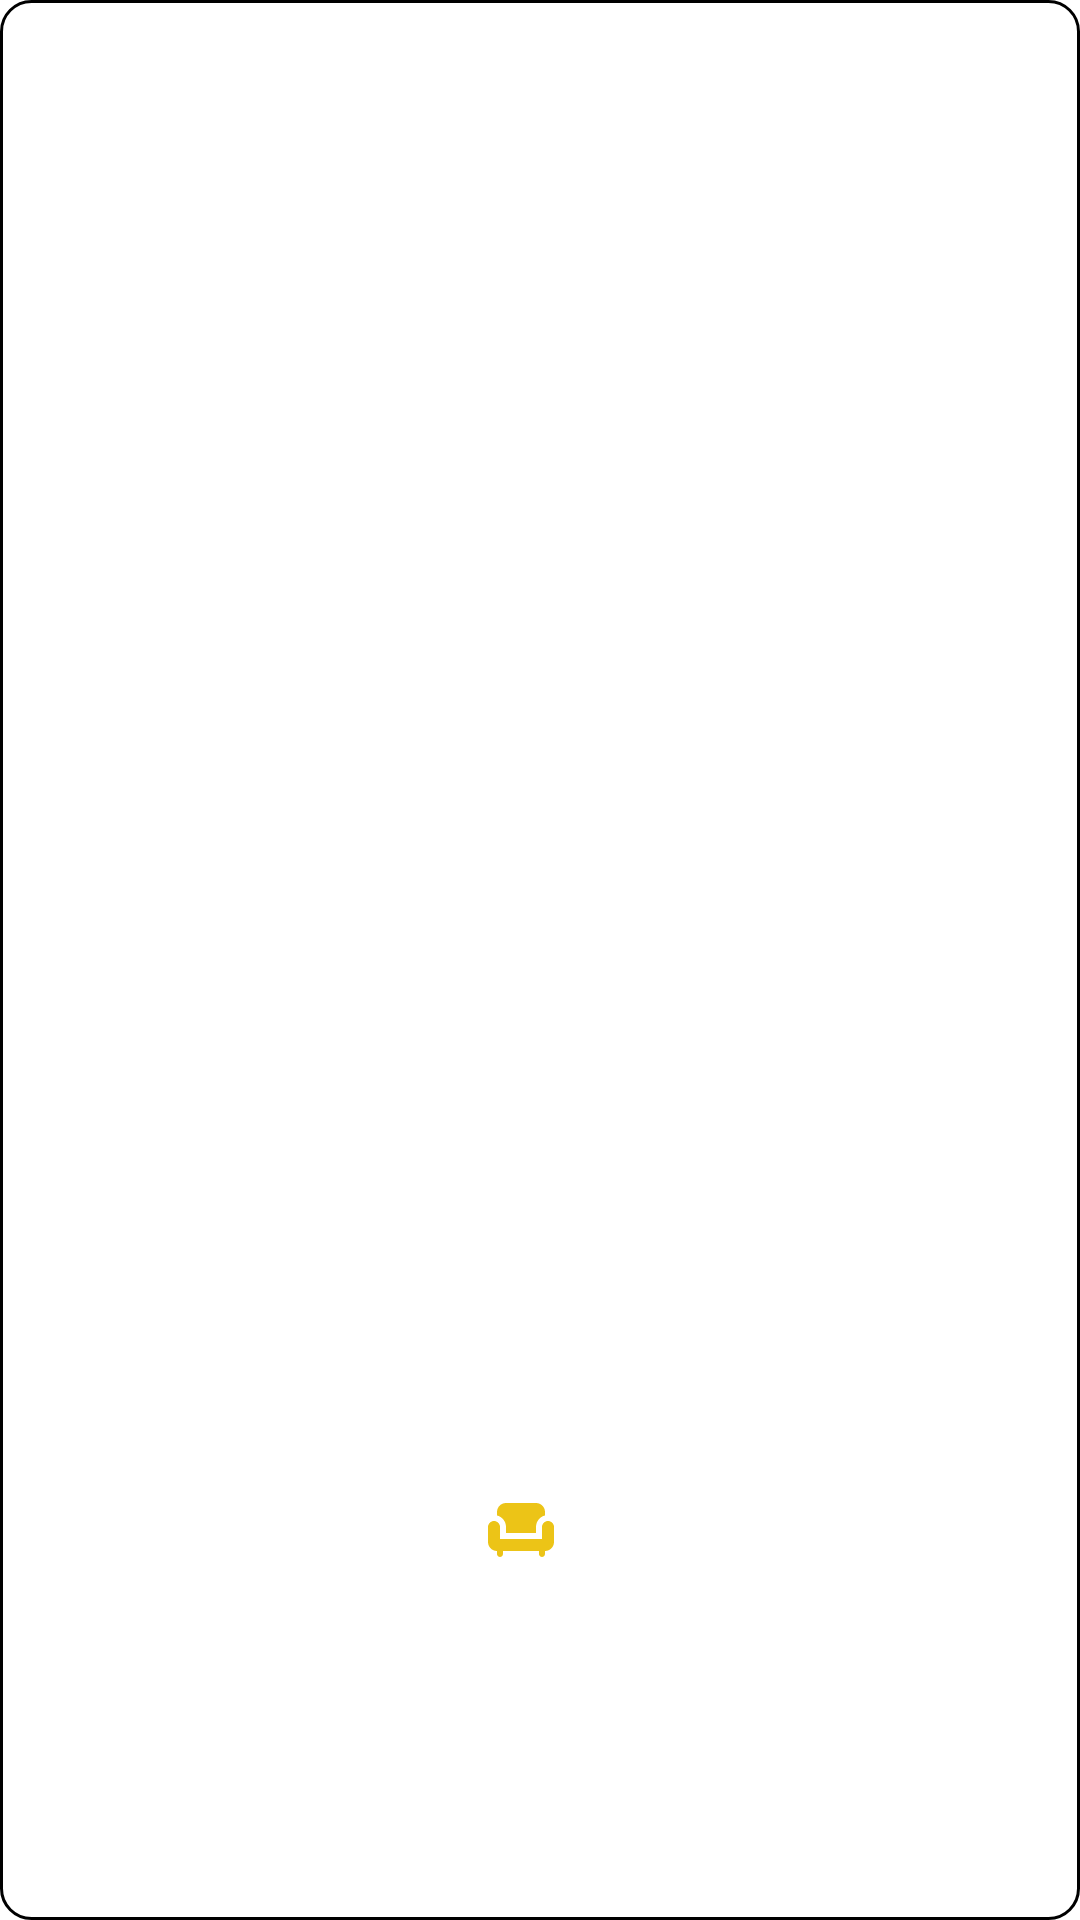

Icons on this 1080px×1920px Android screen, each with the point to tap as (x,y):
chair: (521,1530)
